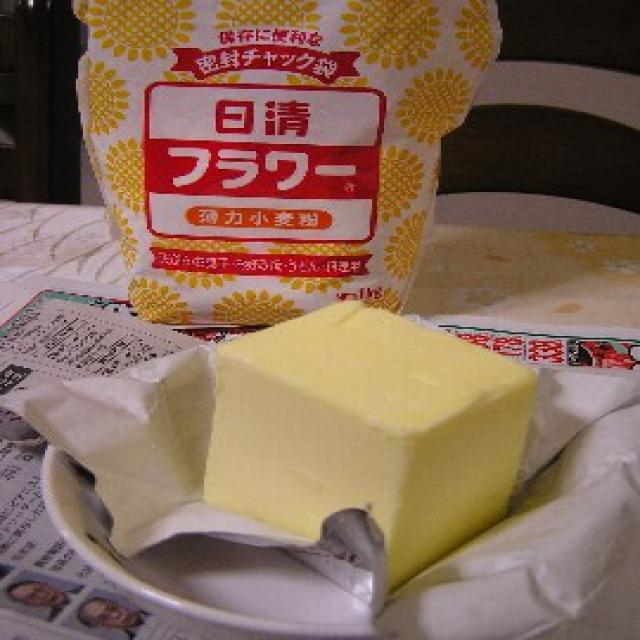Butter: (209, 297, 526, 581)
